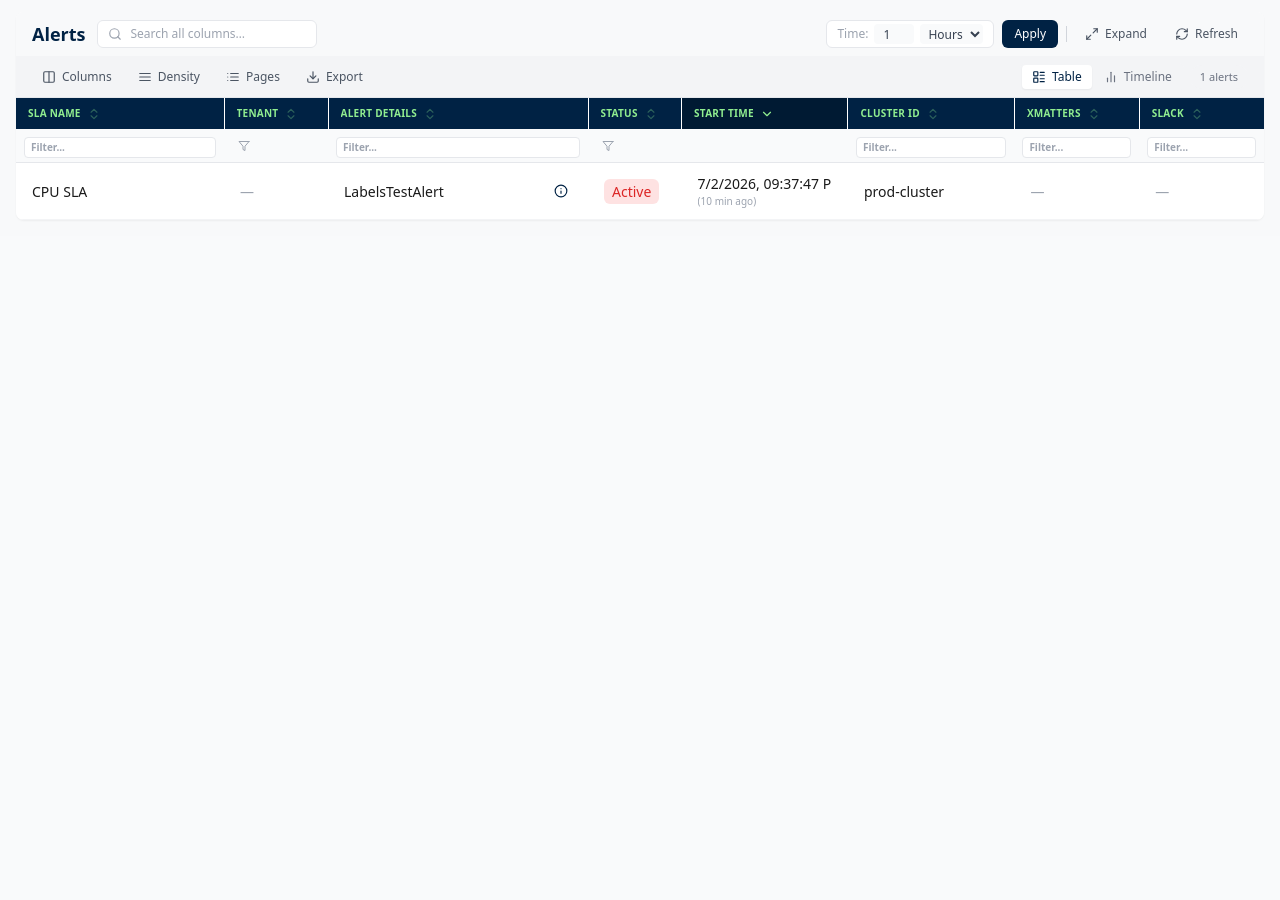
Test: AlertsView — additional coverage › alert details dialog › shows filtered labels in AlertDetailsDialog
Expected: the text "LabelsTestAlert" is shown, [344,182,444,200]
Click the button titled "View full alert details". click: (561, 191)
box: [550,180,572,202]
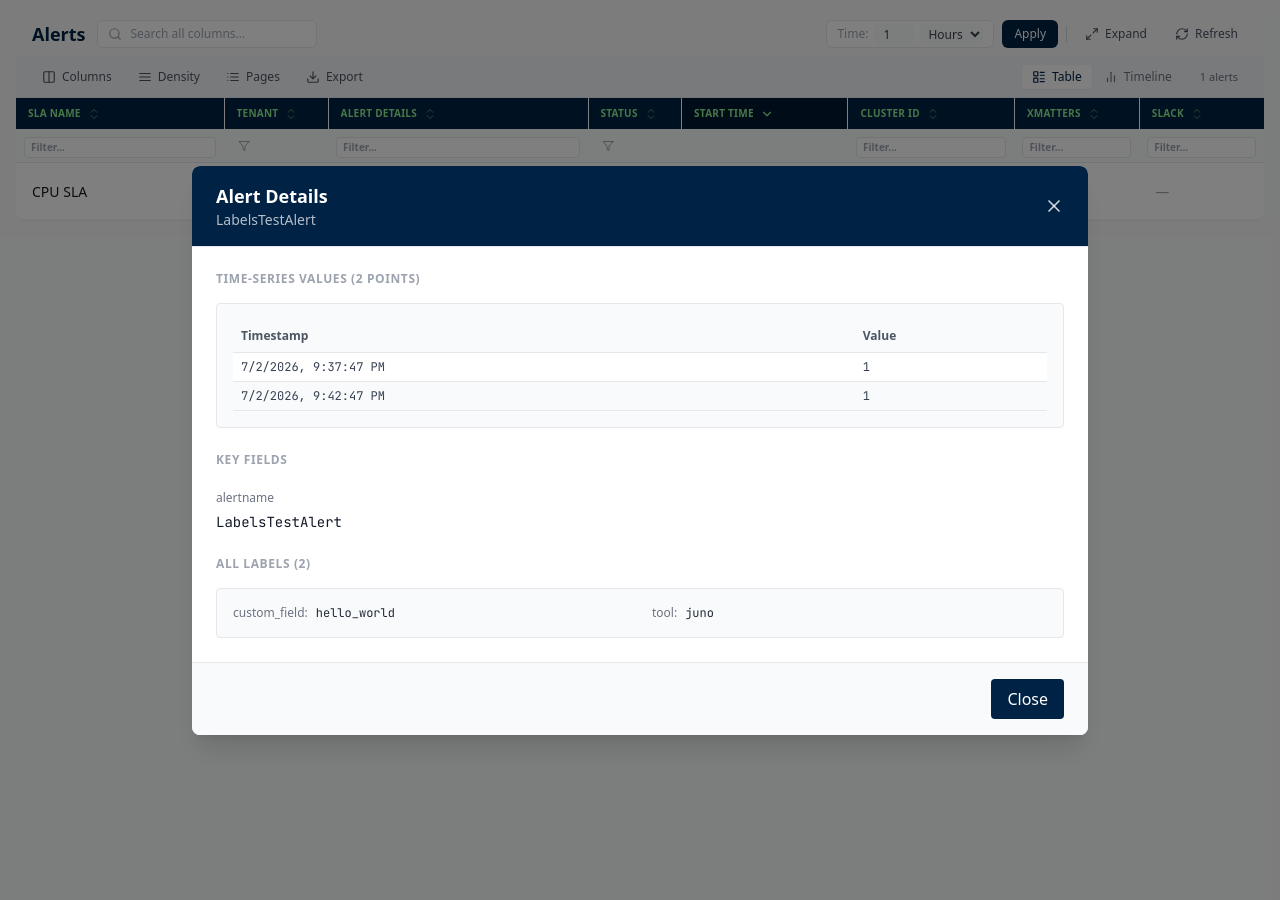
Expected: the text "custom_field:" is shown, [233,604,308,620]
Expected: the text "hello_world" is shown, [316,604,395,620]
Expected: the text "tool:" is shown, [652,604,677,620]
